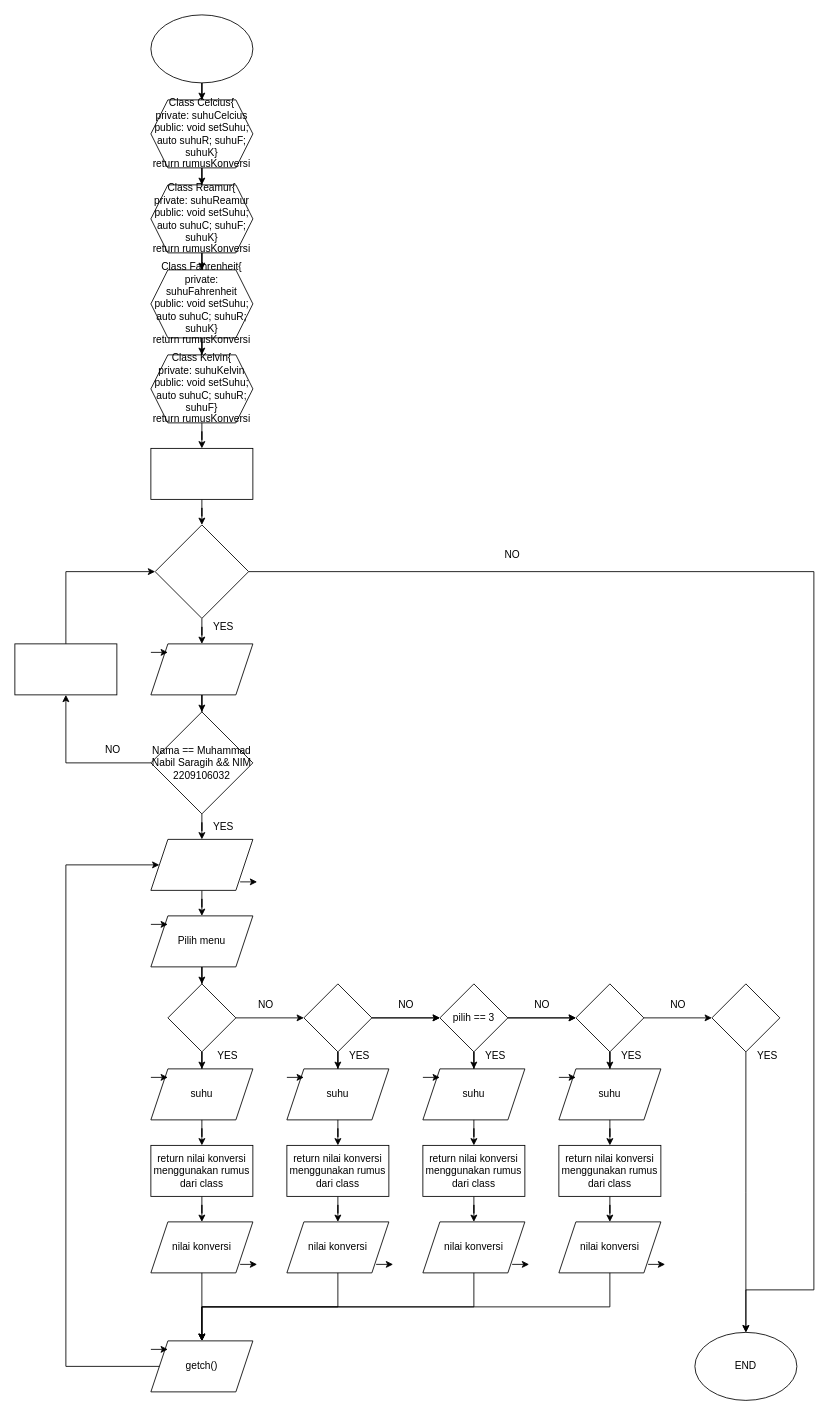
The diagram is 836 pixels wide and 1415 high, and some of its shapes have lost their labels. The centre of each missing label's shape, as x and y in pixels:
banyakPercobaan -= 1: (x=65, y=669)
banyakPercobaan > 0: (x=201, y=571)
int main() { deklarasi variabel}: (x=201, y=473)
menuUtama: (x=201, y=864)
Nama dan NIM: (x=201, y=669)
pilih == 1: (x=201, y=1017)
pilih == 2: (x=337, y=1017)
pilih == 4: (x=609, y=1017)
pilih == 5: (x=745, y=1017)
START: (x=201, y=48)
